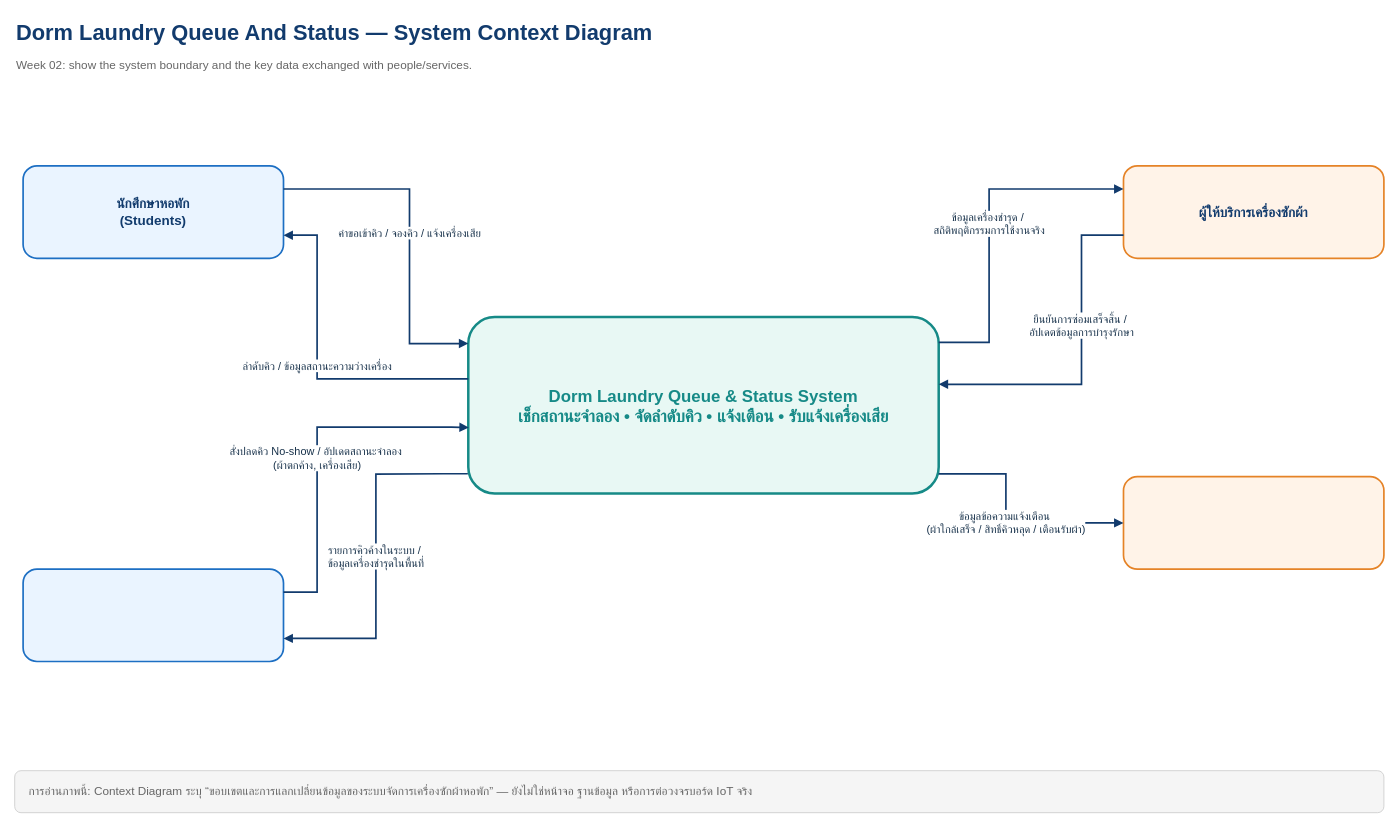
Image size: 1399x827. Some labels were removed from this diagram. The shapes that lost their labels are listed below. From the top down, each one's box as (x1, y1, x2, y2) in pixels, then its label:
(1122, 475, 1384, 570): Notification Service (ระบบจำลอง)
(22, 568, 284, 662): ผู้ดูแลหอพัก / แม่บ้าน / เจ้าหน้าที่
